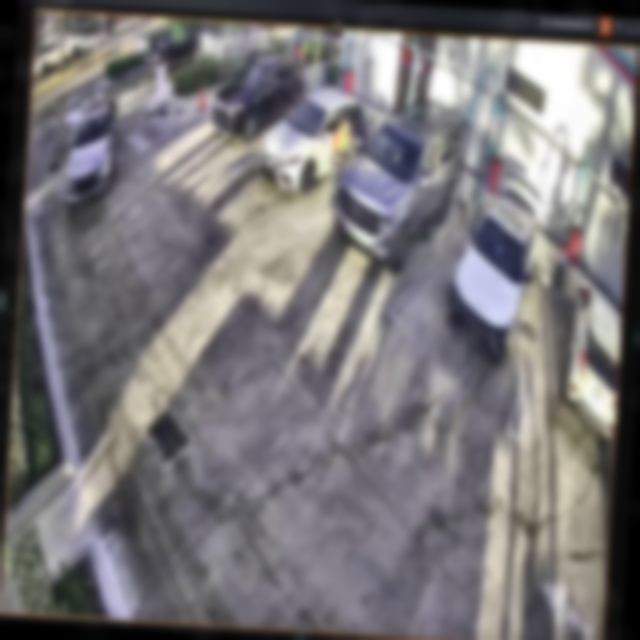Car: (327, 102, 464, 272), (448, 164, 543, 357), (258, 90, 377, 194)
